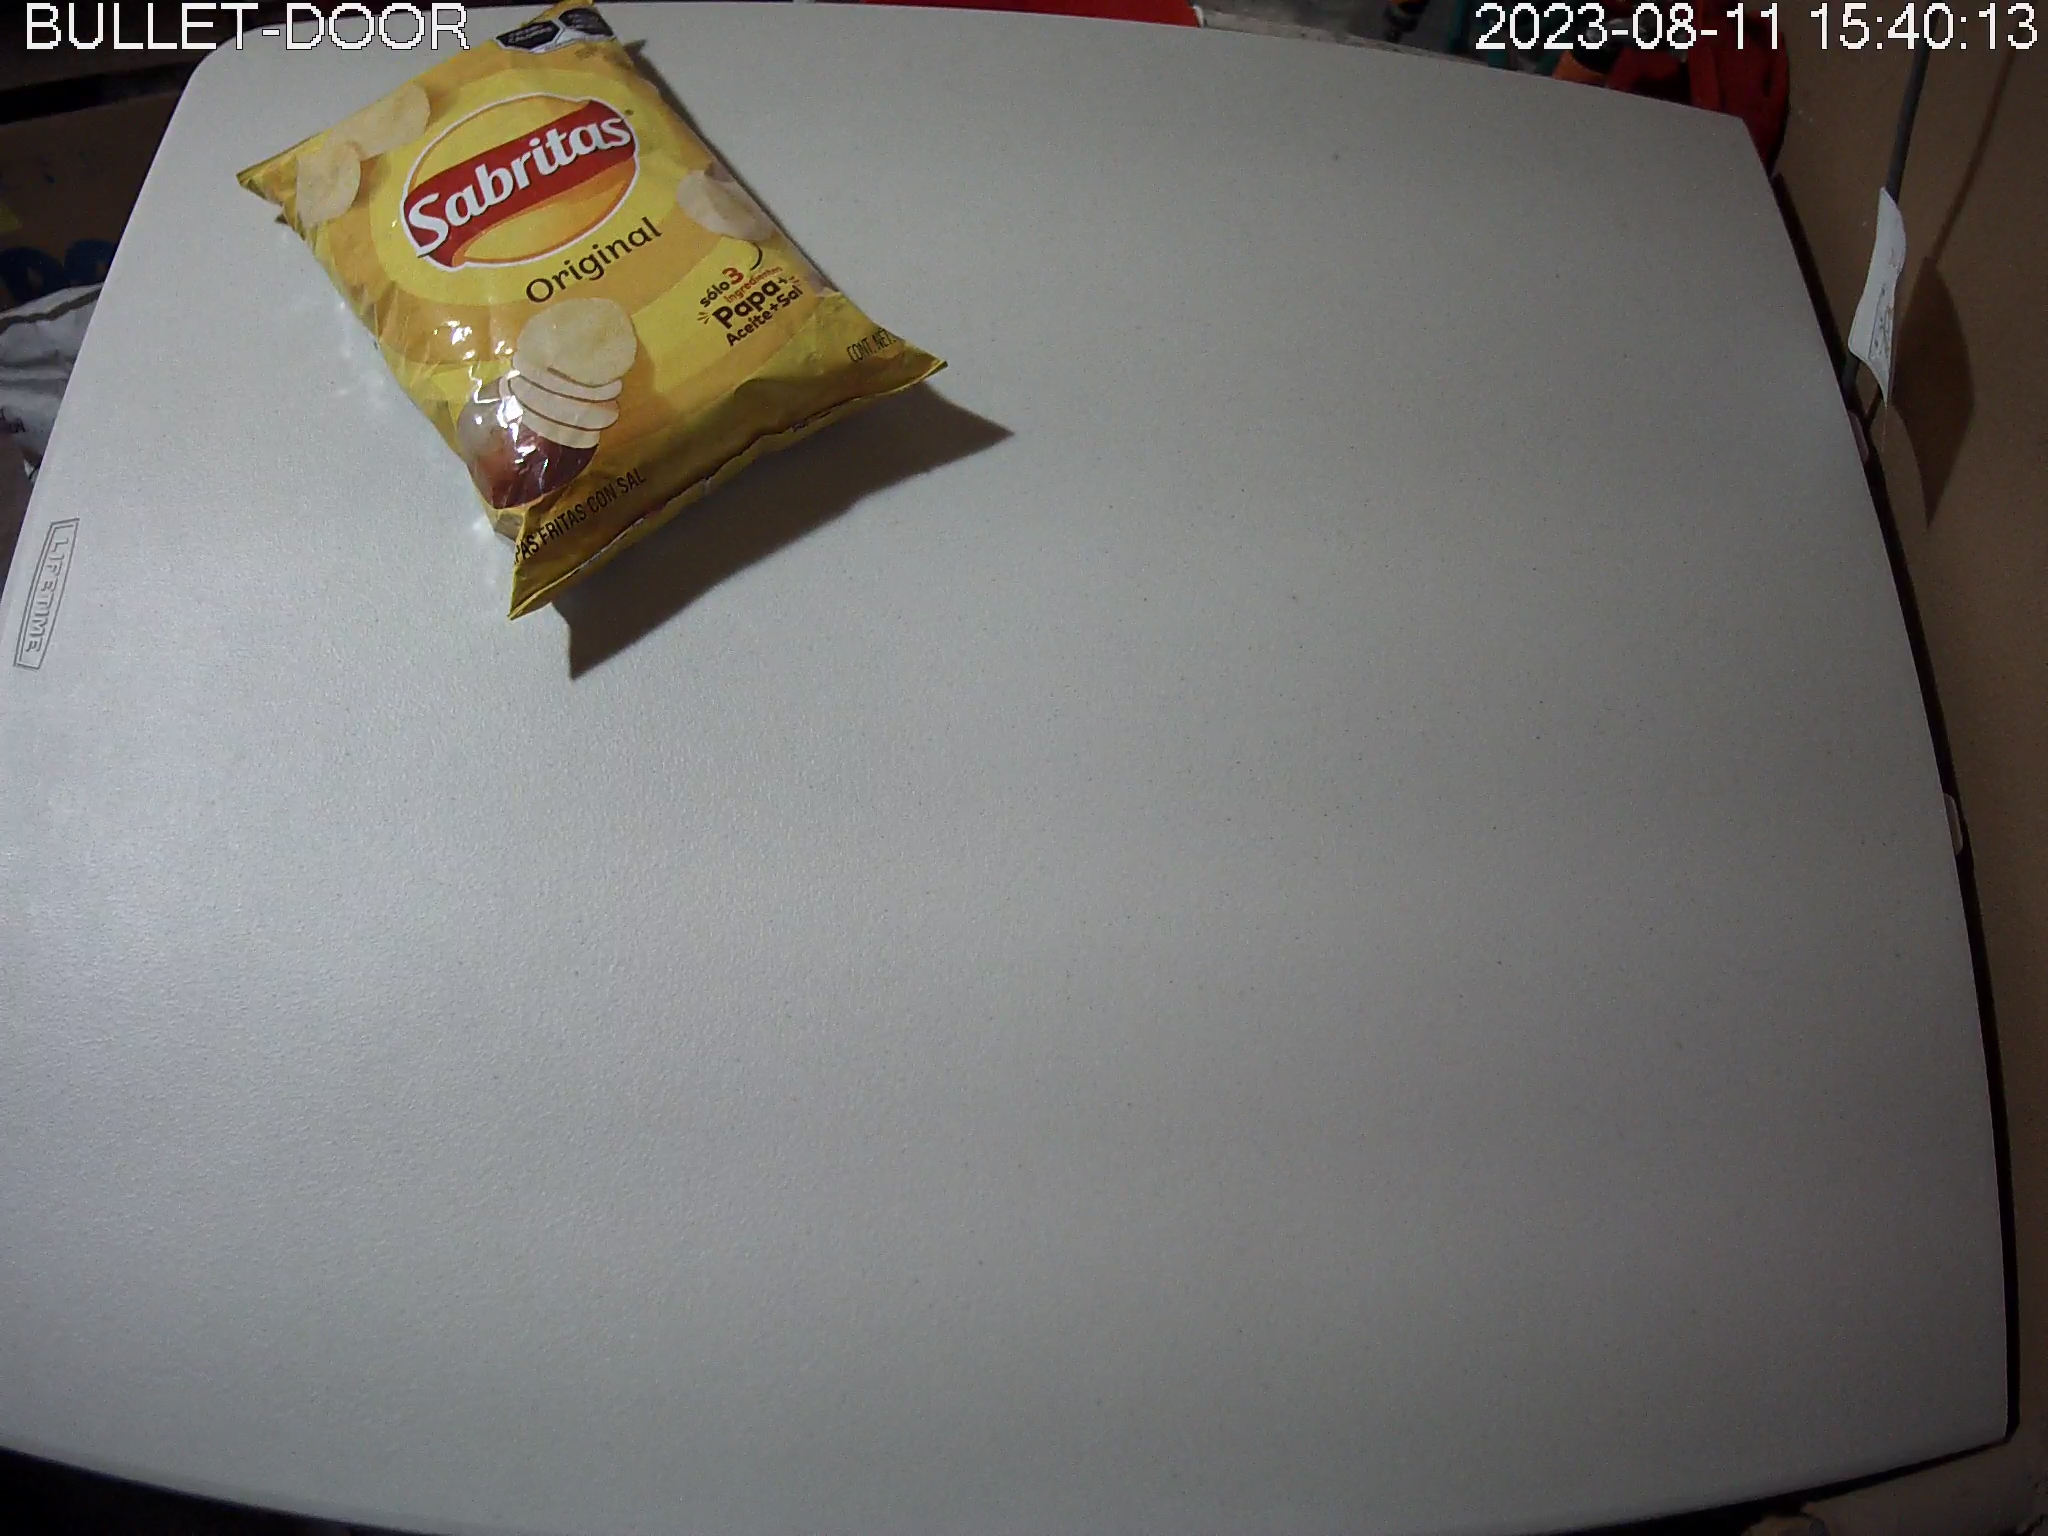Sabritas_160_F: (235, 6, 955, 623)
